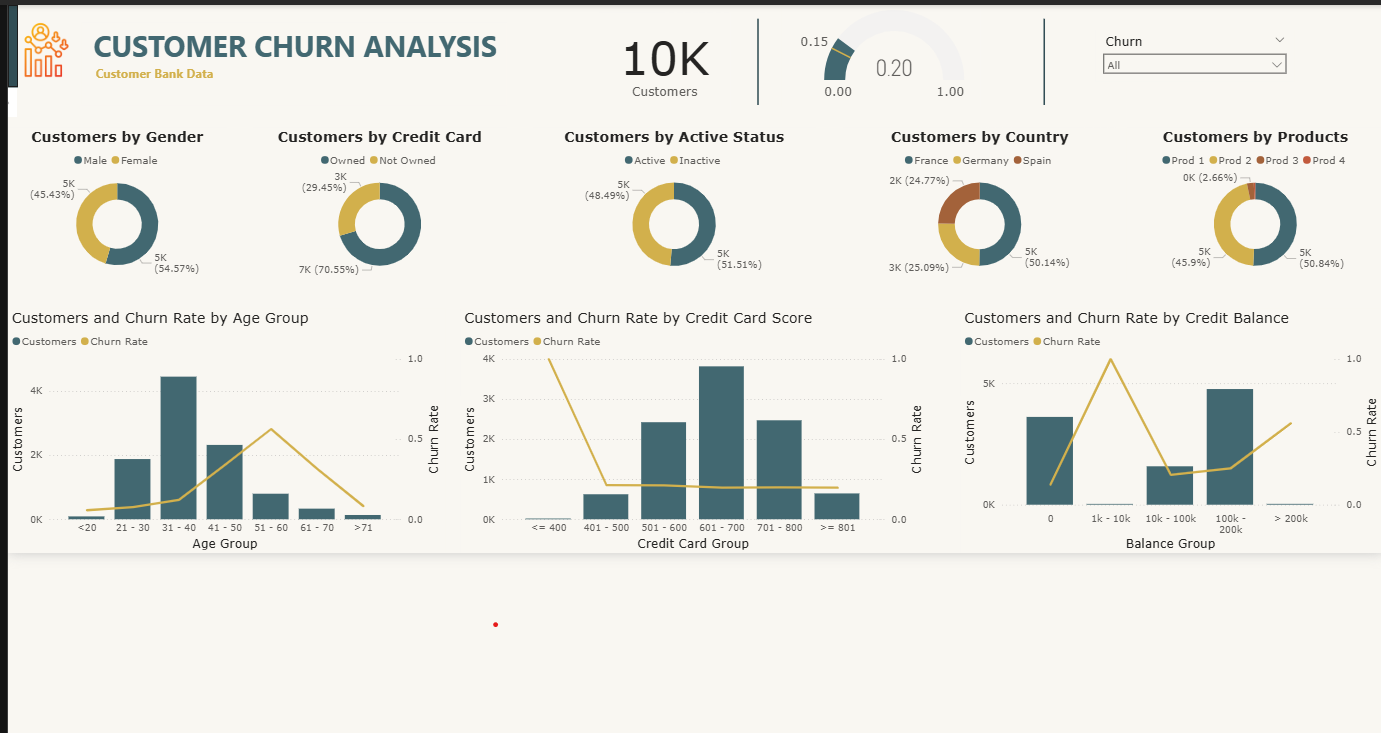

This screenshot's page, from the dashboard's own definition file:
{"tool":"powerbi","page":{"name":"Churn Analysis","canvas":[1800,718],"ordinal":0},"visuals":[{"type":"card","fields":{"Values":["Bank Customer Churn Prediction.Customers"]},"box":[773.4,9.8,171.7,130.8],"z":0},{"type":"donutChart","fields":{"Y":["Bank Customer Churn Prediction.Customers"],"Category":["Bank Customer Churn Prediction.Gender"]},"box":[0,159.6,286.2,201.1],"z":1000},{"type":"donutChart","fields":{"Y":["Bank Customer Churn Prediction.Customers"],"Category":["Bank Customer Churn Prediction.Credit Card"]},"box":[320.9,159.6,331.9,201.1],"z":2000},{"type":"donutChart","fields":{"Y":["Bank Customer Churn Prediction.Customers"],"Category":["Bank Customer Churn Prediction.Active Status"]},"box":[687.6,159.6,369.6,201.1],"z":3000},{"type":"donutChart","fields":{"Y":["Bank Customer Churn Prediction.Customers"],"Category":["Bank Customer Churn Prediction.Country"]},"box":[1092.3,160.2,358.1,201.1],"z":4000},{"type":"donutChart","fields":{"Y":["Bank Customer Churn Prediction.Customers"],"Category":["Bank Customer Churn Prediction.Products"]},"box":[1463.2,159.6,336.8,201.1],"z":5000},{"type":"lineClusteredColumnComboChart","fields":{"Y":["Bank Customer Churn Prediction.Customers"],"Category":["Age Group.Age Group"],"Y2":["Bank Customer Churn Prediction.Churn Rate"]},"box":[0,397.3,572.3,320.5],"z":6000},{"type":"lineClusteredColumnComboChart","title":"Customers and Churn Rate by Credit Card Score","fields":{"Y":["Bank Customer Churn Prediction.Customers"],"Y2":["Bank Customer Churn Prediction.Churn Rate"],"Category":["Credit Card Group.Credit Card Group"]},"box":[591.9,397.3,613.2,320.5],"z":7000},{"type":"lineClusteredColumnComboChart","title":"Customers and Churn Rate by Credit Balance","fields":{"Y":["Bank Customer Churn Prediction.Customers"],"Y2":["Bank Customer Churn Prediction.Churn Rate"],"Category":["Balance Group.Balance Group"]},"box":[1246,397.3,554.3,320.5],"z":8000},{"type":"slicer","fields":{"Values":["Bank Customer Churn Prediction.Churn"]},"box":[1422.6,32.7,260,67],"z":9000},{"type":"gauge","fields":{"Y":["Bank Customer Churn Prediction.Churn Rate"],"MinValue":["Min(Bank Customer Churn Prediction.Minimum Churn Rate)"],"MaxValue":["Max(Bank Customer Churn Prediction.Maximum Churn Rate)"],"TargetValue":["Min(Bank Customer Churn Prediction.Target Churn Rate)"]},"box":[1012.2,1.6,260,130.8],"z":10000},{"type":"textbox","box":[96.5,22.9,556,107.9],"z":11000},{"type":"image","box":[4.9,18,91.6,81.8],"z":12000},{"type":"shape","box":[1349,18,13.1,112.8],"z":13000},{"type":"shape","box":[974.6,18,13.1,112.8],"z":14000},{"type":"shape","box":[0,0,13.1,107.9],"z":15000}]}

Visuals, with their boxes on the page's 1800x718 design canvas (x1, y1, x2, y2). These are canvas units, not pixel positions in the 1381x733 screenshot, which may show the page scaled, cropped or inside an application window:
card - Bank Customer Churn Prediction.Customers: x1=773 y1=10 x2=945 y2=141
donutChart - Bank Customer Churn Prediction.Customers x Bank Customer Churn Prediction.Gender: x1=0 y1=160 x2=286 y2=361
donutChart - Bank Customer Churn Prediction.Customers x Bank Customer Churn Prediction.Credit Card: x1=321 y1=160 x2=653 y2=361
donutChart - Bank Customer Churn Prediction.Customers x Bank Customer Churn Prediction.Active Status: x1=688 y1=160 x2=1057 y2=361
donutChart - Bank Customer Churn Prediction.Customers x Bank Customer Churn Prediction.Country: x1=1092 y1=160 x2=1450 y2=361
donutChart - Bank Customer Churn Prediction.Customers x Bank Customer Churn Prediction.Products: x1=1463 y1=160 x2=1800 y2=361
lineClusteredColumnComboChart - Bank Customer Churn Prediction.Customers x Age Group.Age Group: x1=0 y1=397 x2=572 y2=718
"Customers and Churn Rate by Credit Card Score" lineClusteredColumnComboChart: x1=592 y1=397 x2=1205 y2=718
"Customers and Churn Rate by Credit Balance" lineClusteredColumnComboChart: x1=1246 y1=397 x2=1800 y2=718
slicer - Bank Customer Churn Prediction.Churn: x1=1423 y1=33 x2=1683 y2=100
gauge - Bank Customer Churn Prediction.Churn Rate x Min(Bank Customer Churn Prediction.Minimum Churn Rate): x1=1012 y1=2 x2=1272 y2=132
textbox: x1=96 y1=23 x2=652 y2=131
image: x1=5 y1=18 x2=96 y2=100
shape: x1=1349 y1=18 x2=1362 y2=131
shape: x1=975 y1=18 x2=988 y2=131
shape: x1=0 y1=0 x2=13 y2=108
